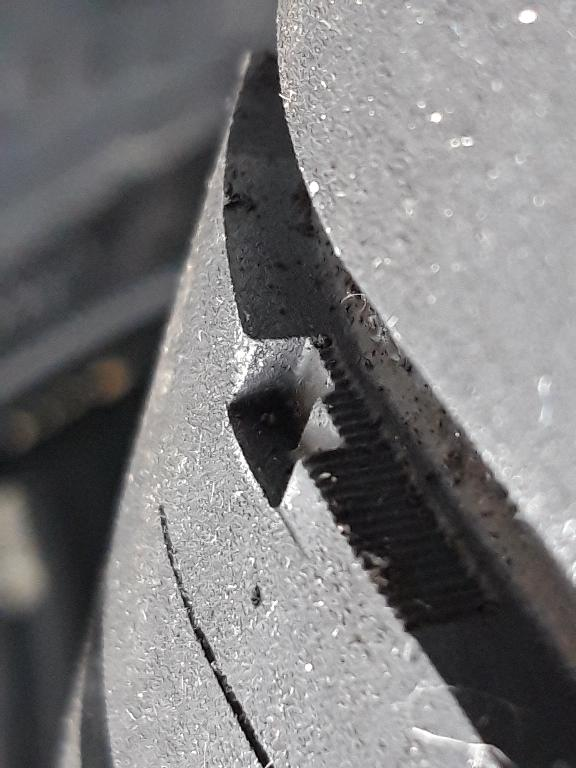temoin:50: (215, 324, 447, 562)
